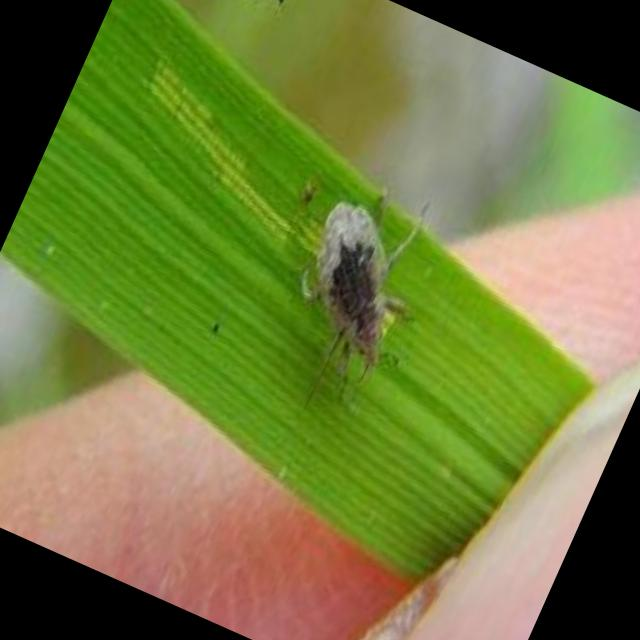rice-bug: (262, 182, 439, 404)
